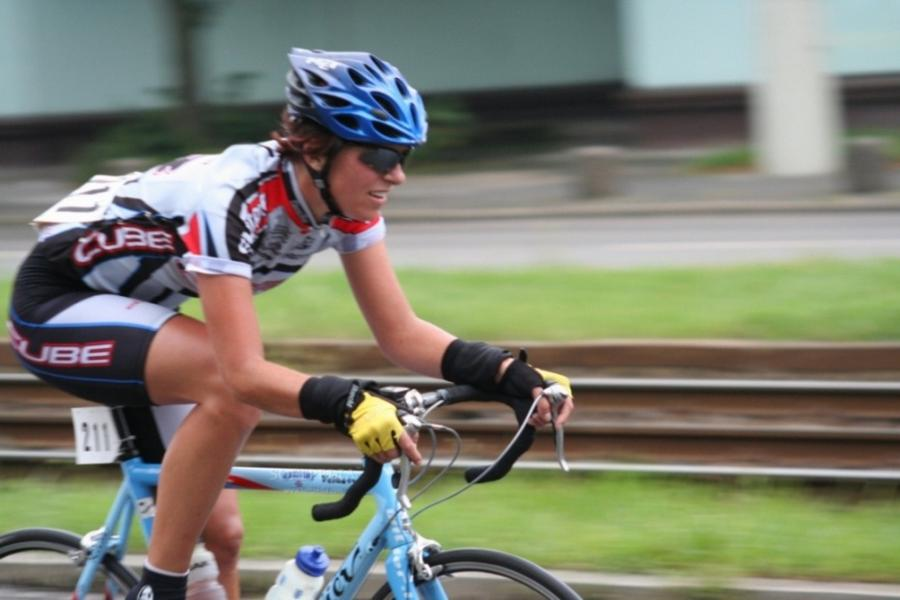person: (8, 49, 580, 598)
